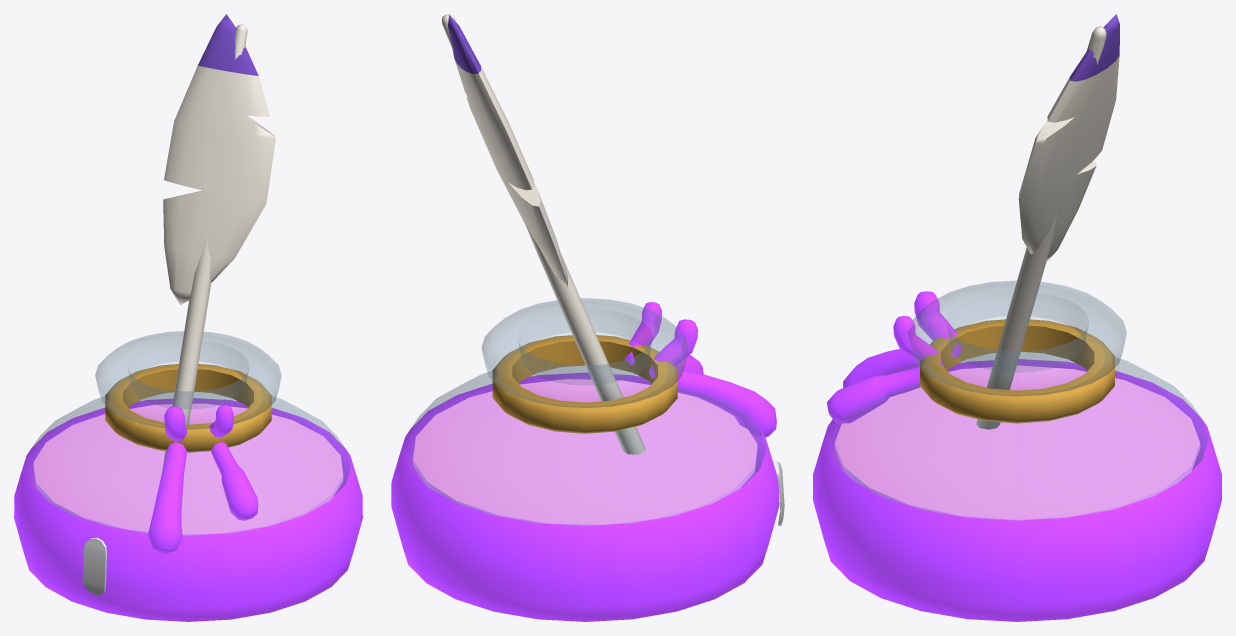
The model's file is item_rune_ink.glb.
The picture shows the model from 3 angles, left to right: view 1: azimuth 30°, elevation 25°; view 2: azimuth 150°, elevation 25°; view 3: azimuth 270°, elevation 25°; orthographic projection. The views are drawn at different scales.
Visible parts, largest first — view 1: RuneInk; view 2: RuneInk; view 3: RuneInk.
Part boxes in pixels (x1=…): RuneInk: x1=14, y1=14, x2=362, y2=621; RuneInk: x1=391, y1=14, x2=784, y2=621; RuneInk: x1=813, y1=14, x2=1221, y2=621.
Size of the model in its own units: 0.1941 by 0.3059 by 0.1941.
